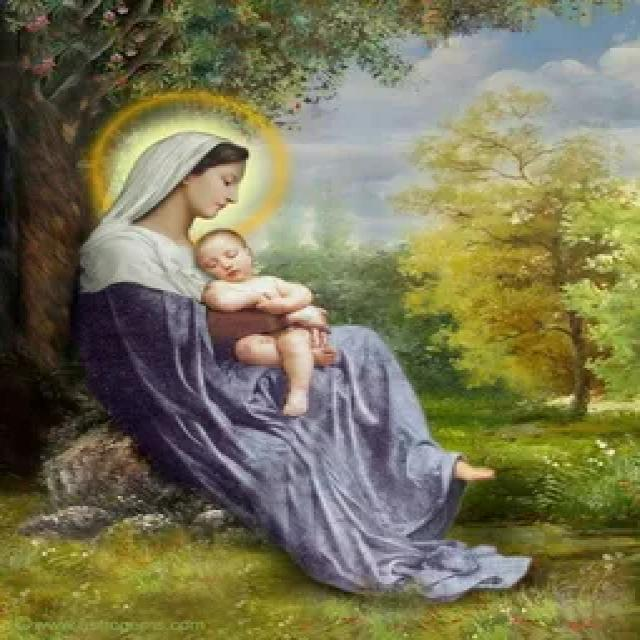mother of god: (60, 125, 558, 598)
